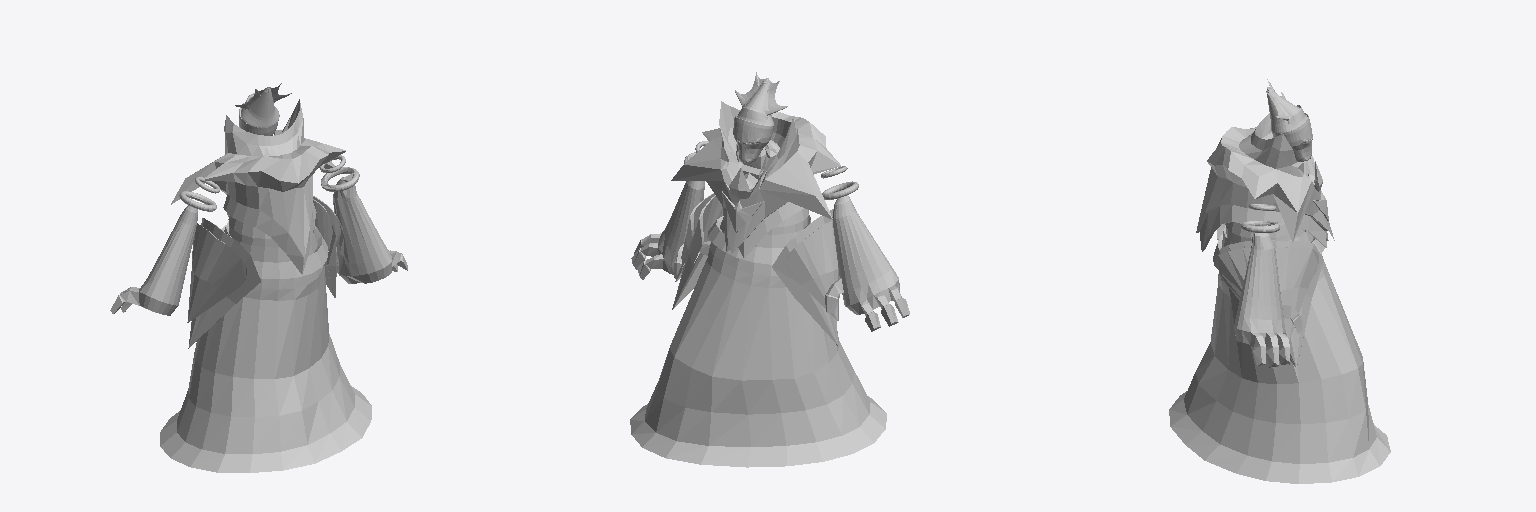
The model's file is RATH_IDLE_24FPS.0064.obj.
The picture shows the model from 3 angles: view 1: azimuth 30°, elevation 25°; view 2: azimuth 150°, elevation 25°; view 3: azimuth 270°, elevation 25°; orthographic projection.
Parts seen in each view (by area): view 1: pasted__pasted__pTorus3; view 2: pasted__pasted__pTorus3; view 3: pasted__pasted__pTorus3.
Part boxes in pixels (left/top/right/bottom): pasted__pasted__pTorus3: left=110, top=83, right=407, bottom=472; pasted__pasted__pTorus3: left=630, top=72, right=909, bottom=467; pasted__pasted__pTorus3: left=1169, top=79, right=1390, bottom=483.
Bounding box in the file's own units: 148 × 172 × 99.38.